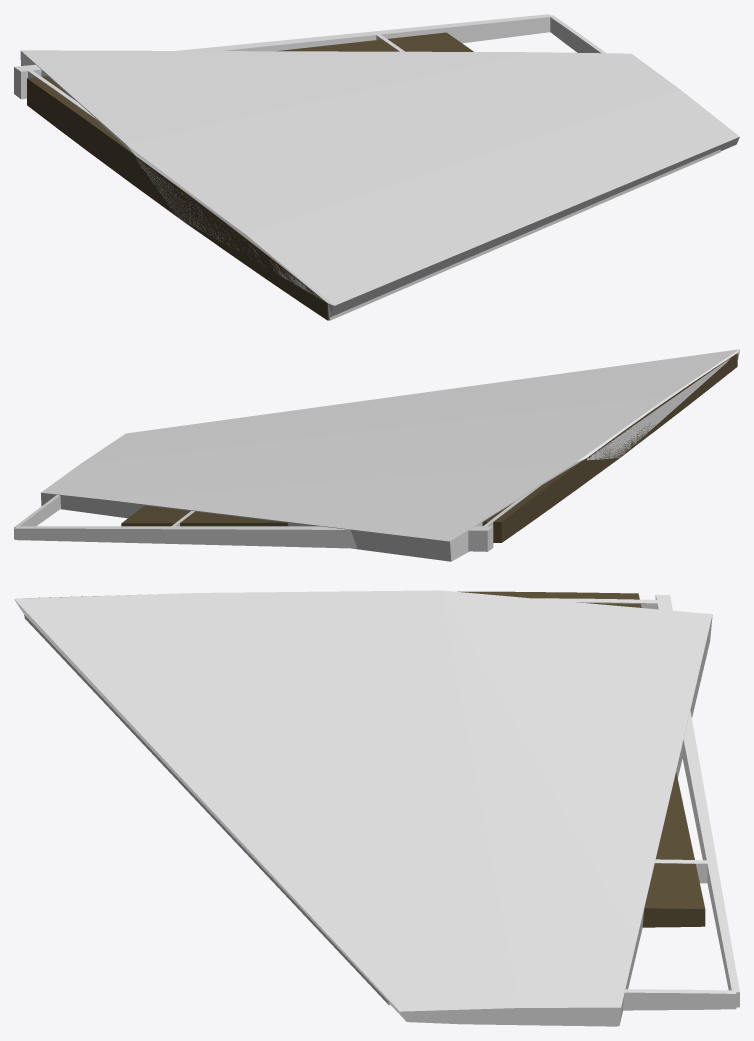
Rendered from wing_spar_outer_L.fbx.
The picture shows the model from 3 angles, top to bottom: view 1: azimuth 30°, elevation 25°; view 2: azimuth 150°, elevation 25°; view 3: azimuth 270°, elevation 25°; orthographic projection. The views are drawn at different scales.
Visible parts, largest first — view 1: wing_spar_outer_L_colmesh0, wing_spar_outer_L; view 2: wing_spar_outer_L_colmesh0, wing_spar_outer_L; view 3: wing_spar_outer_L_colmesh0, wing_spar_outer_L.
Boxes of the visible parts, x1,y1,x2,y2 form: wing_spar_outer_L_colmesh0: (20,50,739,320); wing_spar_outer_L: (14,14,720,320); wing_spar_outer_L_colmesh0: (41,349,739,561); wing_spar_outer_L: (14,353,737,551); wing_spar_outer_L_colmesh0: (14,590,712,1026); wing_spar_outer_L: (24,591,739,1010).
Size of the model in its own units: 1.45 by 0.3188 by 1.5.
